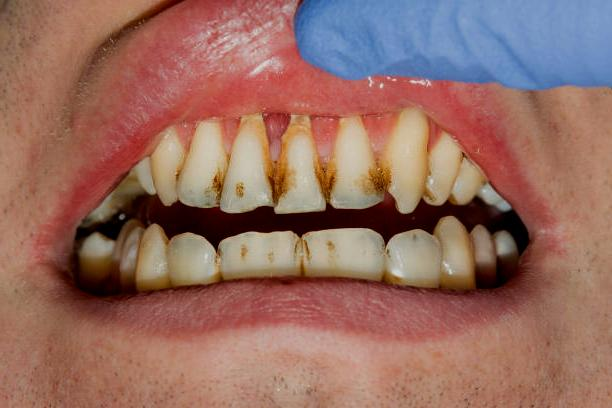Calculus: (307, 122, 393, 210), (265, 111, 329, 225), (207, 122, 268, 214), (375, 119, 434, 206), (172, 129, 226, 220)
